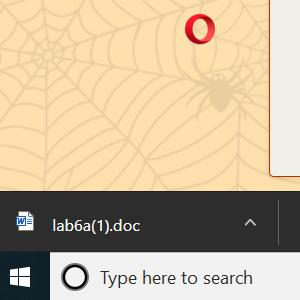opera: (184, 14, 215, 45)
